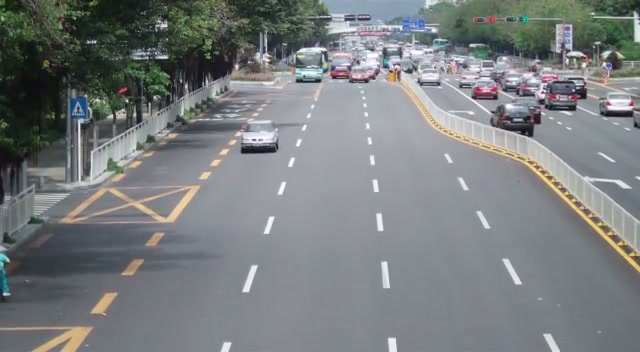car: (490, 103, 535, 137), (240, 120, 279, 153), (544, 81, 579, 112), (598, 92, 635, 117), (471, 80, 498, 99), (566, 78, 588, 99), (502, 72, 525, 91), (349, 65, 372, 83), (417, 70, 441, 86), (330, 64, 351, 80), (459, 74, 480, 88)
pedestrian: (0, 244, 12, 302)
truck: (295, 47, 326, 83)
